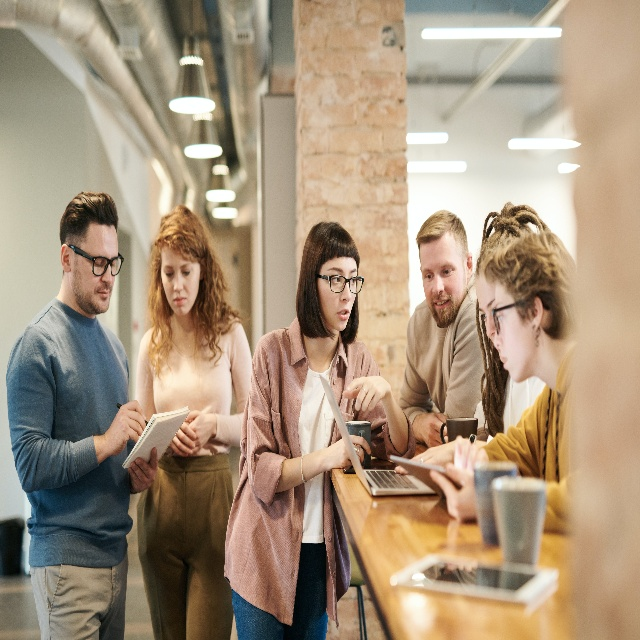Gafas: (66, 242, 124, 277), (492, 299, 527, 335), (317, 272, 365, 293)
Sin_guantes: (429, 463, 477, 522), (105, 399, 147, 458), (395, 442, 452, 475), (342, 375, 388, 412), (325, 433, 371, 469), (128, 448, 159, 494), (453, 433, 487, 471), (185, 411, 215, 454), (421, 409, 449, 449), (169, 424, 197, 458)
